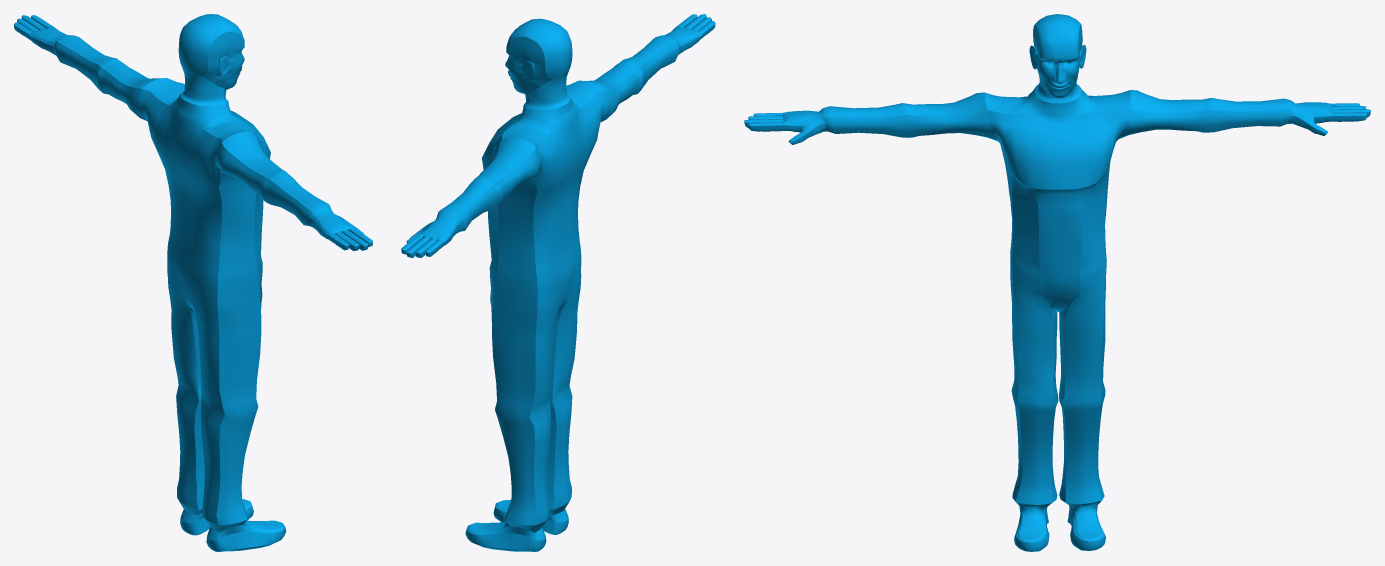
File: body.fbx
3 views of the same model, side by side, from view 1: azimuth 30°, elevation 25°; view 2: azimuth 150°, elevation 25°; view 3: azimuth 270°, elevation 25° (orthographic). The views are drawn at different scales.
Visible parts, largest first — view 1: Body; view 2: Body; view 3: Body.
Boxes of the visible parts, x1,y1,x2,y2 form: Body: [14, 14, 372, 551]; Body: [401, 14, 715, 551]; Body: [744, 14, 1370, 551].
Bounding box in the file's own units: 38.12 × 185 × 207.
